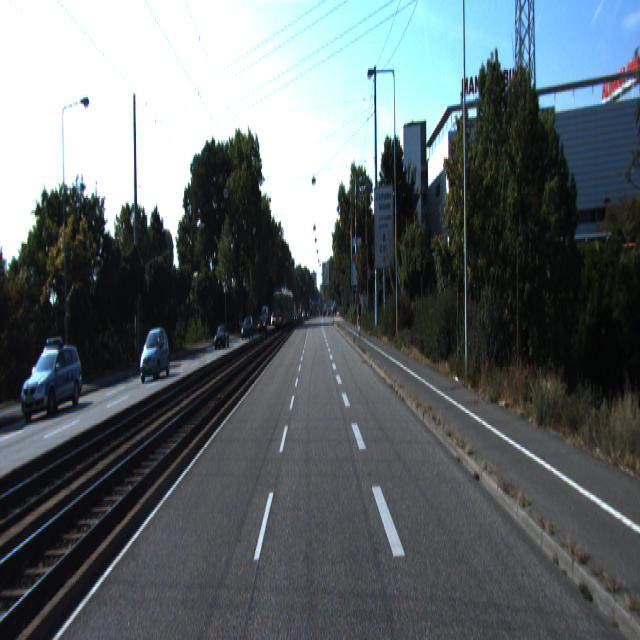Car: (20, 339, 86, 424), (137, 328, 171, 386)
